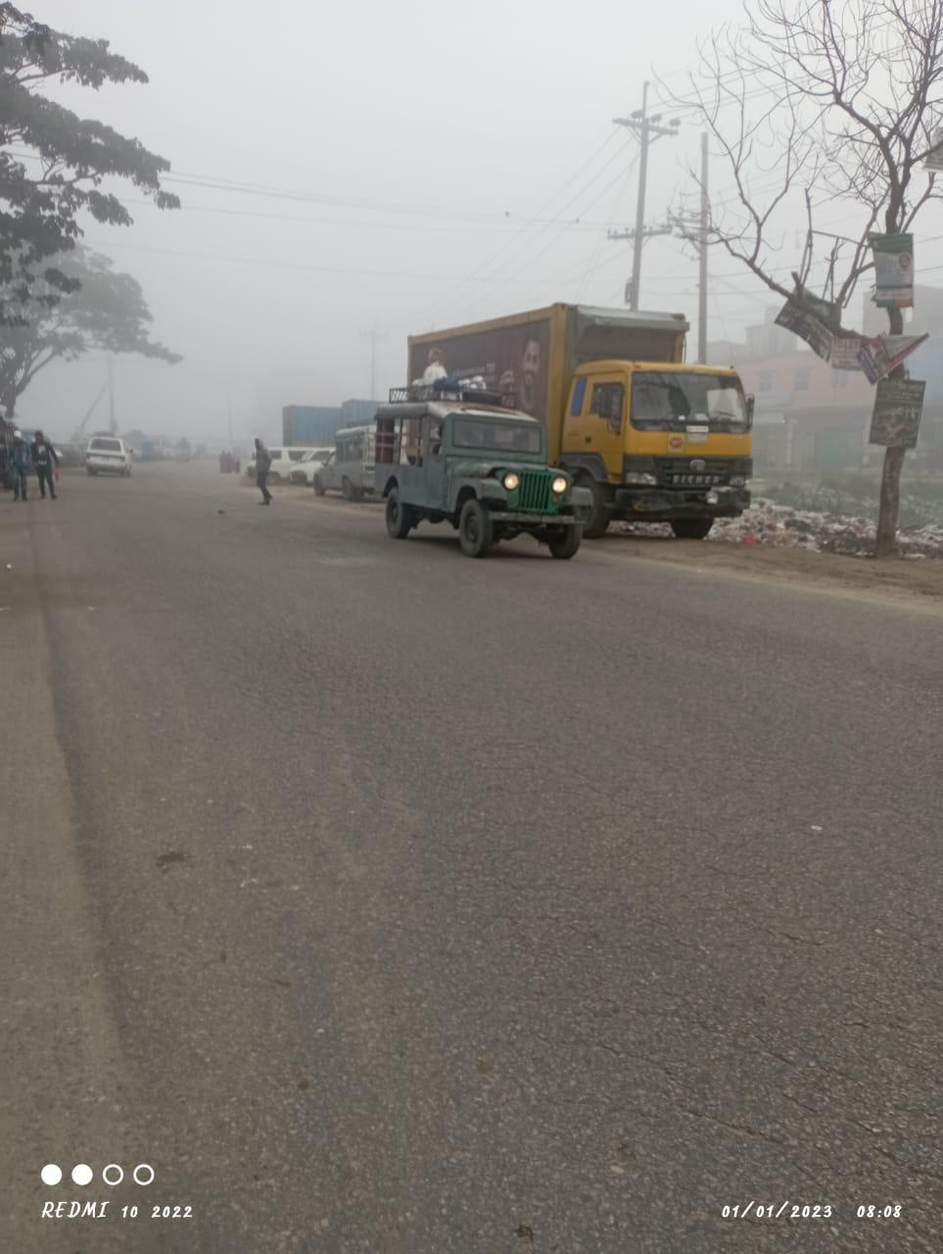Car: (369, 387, 603, 581), (298, 415, 386, 506), (80, 427, 149, 479)
Truck: (390, 297, 758, 544)
